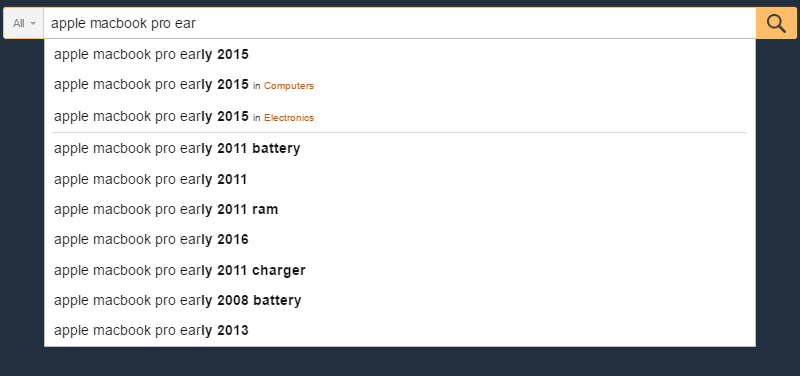search_box: (43, 4, 800, 38)
